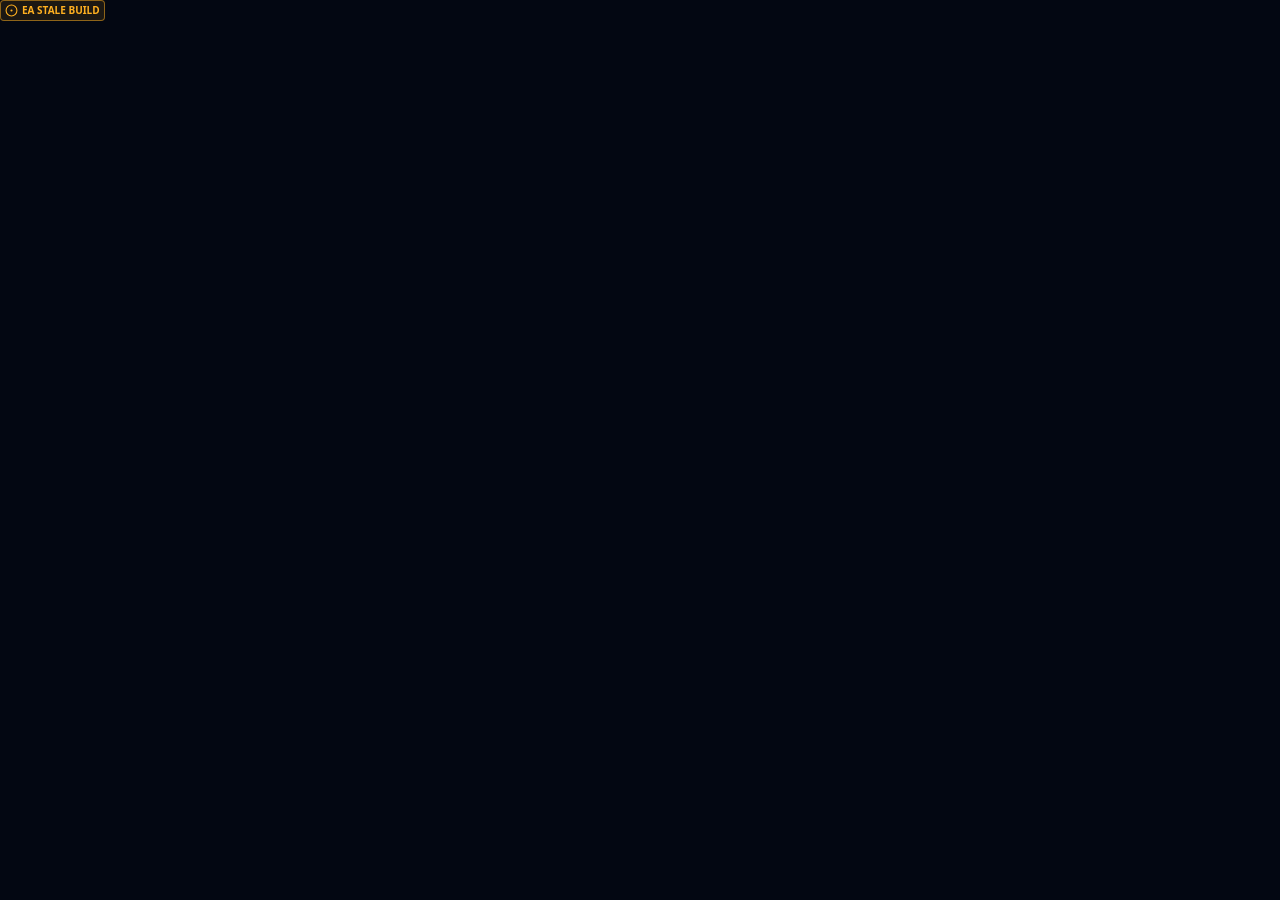
Scenario: the popup › shows the F7 instruction rather than claiming it is done
The width and height of the screenshot is (1280, 900).
Click the button "EA STALE BUILD".
click(52, 10)  # box top-left (0, 0), bottom-right (105, 21)
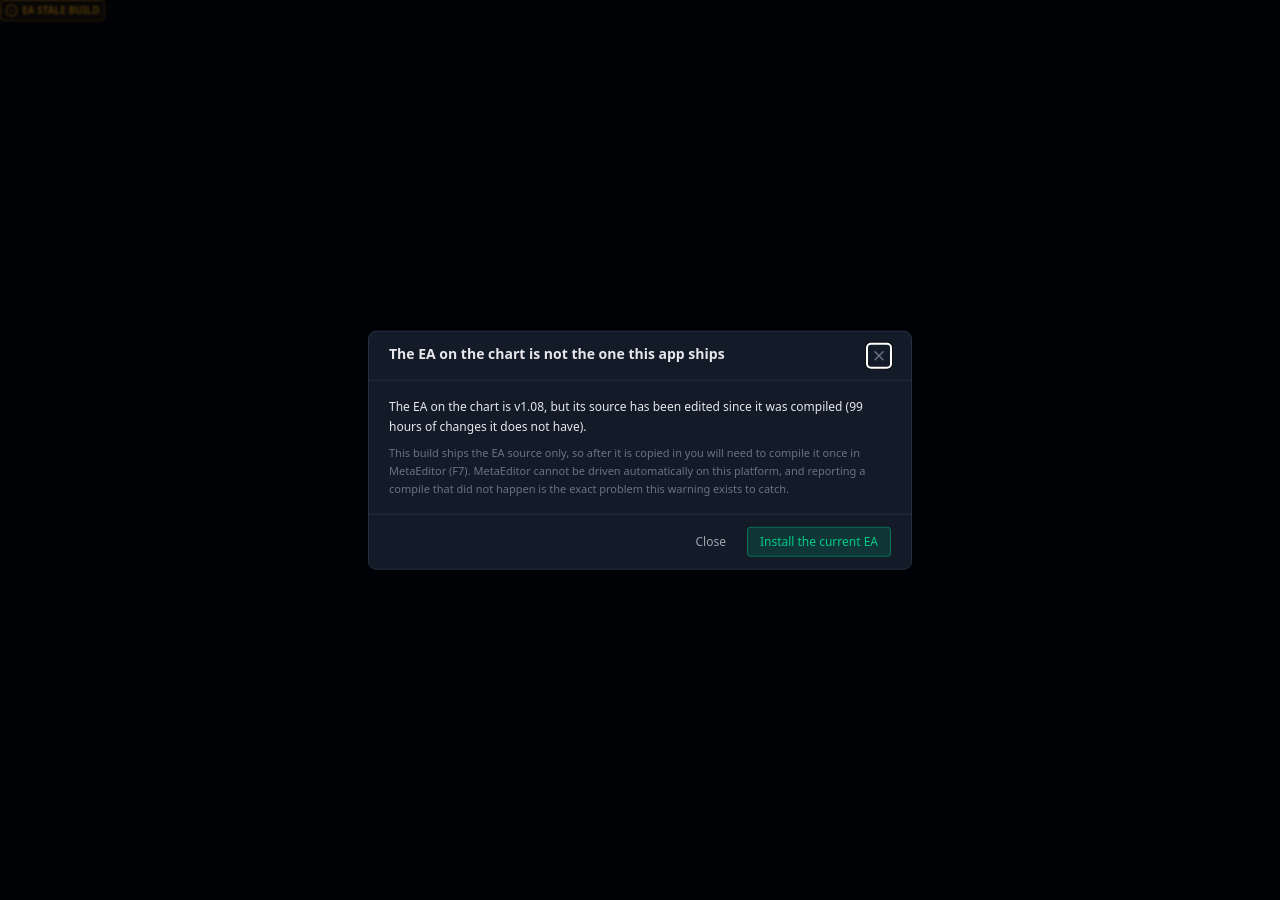
Click the button "Install the current EA".
click(819, 541)  # box top-left (747, 526), bottom-right (891, 556)
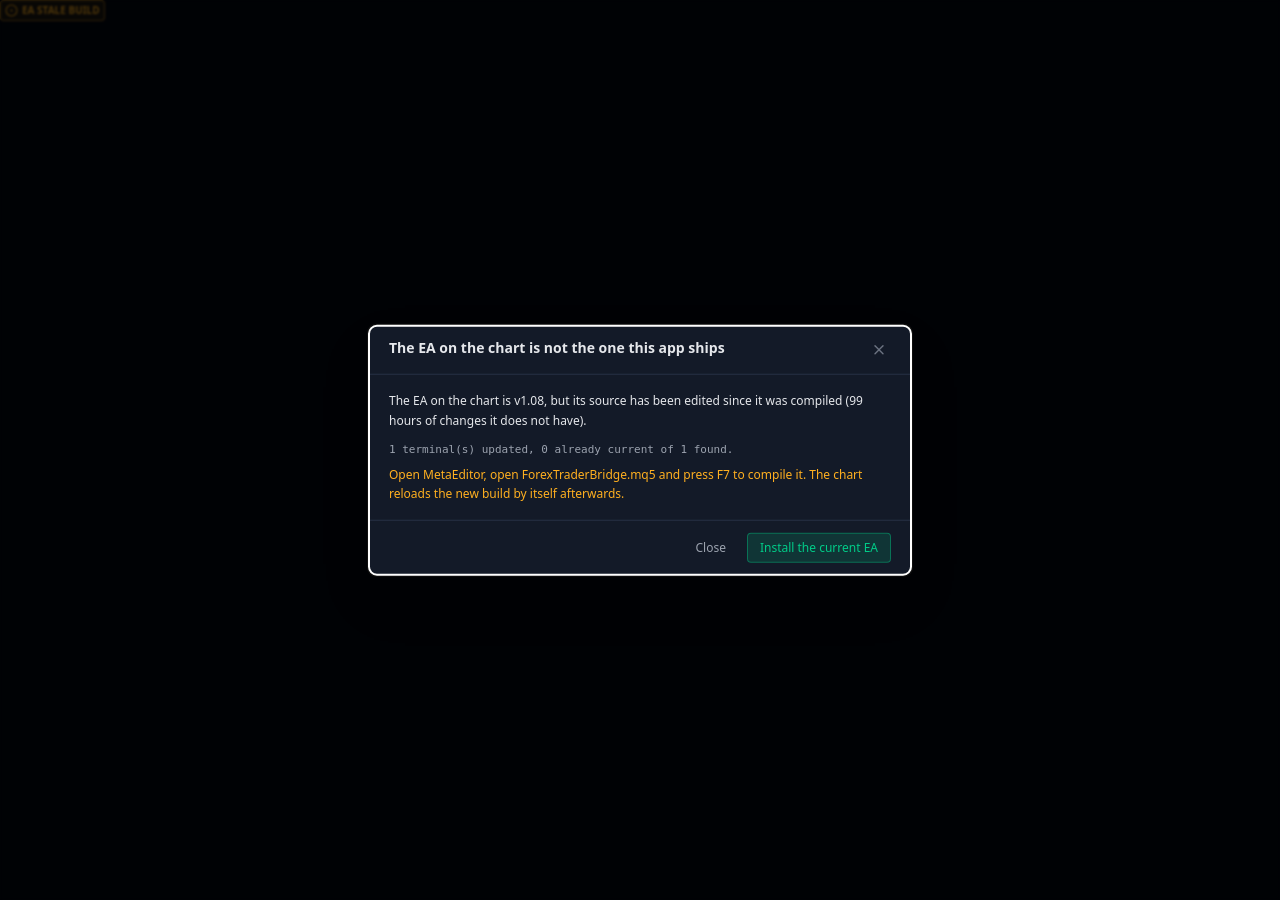
Expected: the text "press F7" is shown, top-left (389, 465), bottom-right (862, 502)
